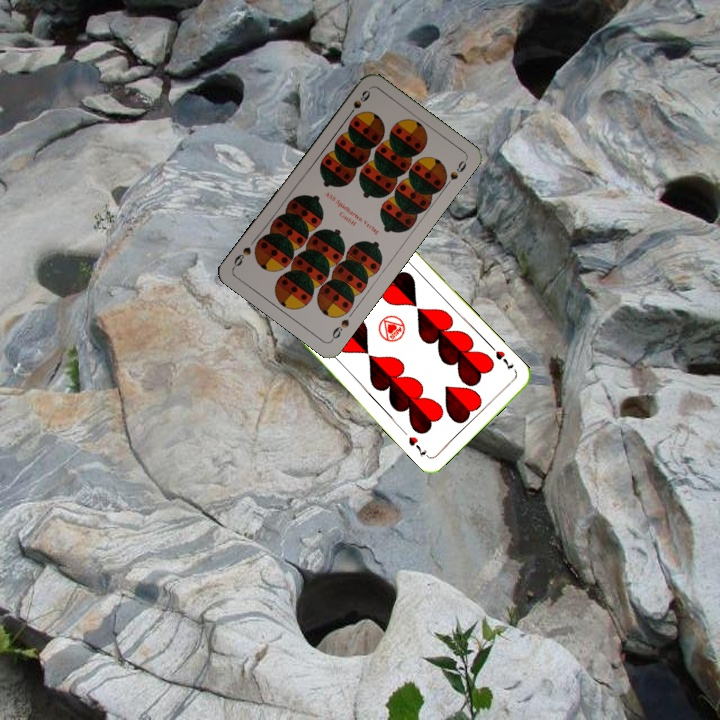H7: (491, 347, 516, 372)
S9: (343, 86, 373, 120), (327, 315, 352, 344)
